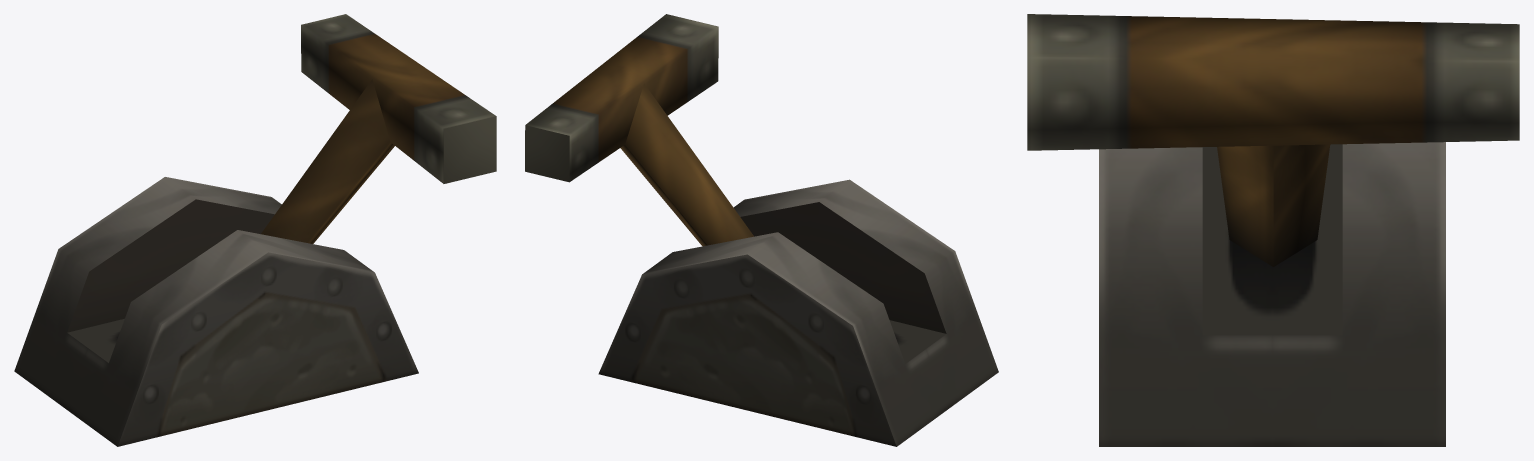
File: switch.FBX
3 views of the same model, side by side, from view 1: azimuth 30°, elevation 25°; view 2: azimuth 150°, elevation 25°; view 3: azimuth 270°, elevation 25° (orthographic). The views are drawn at different scales.
Visible parts, largest first — view 1: Object021, Cylinder001; view 2: Object021, Cylinder001; view 3: Object021, Cylinder001.
Part boxes in pixels (<box>): Object021: <box>14,177,418,446</box>; Cylinder001: <box>261,14,496,243</box>; Object021: <box>598,179,998,446</box>; Cylinder001: <box>525,14,753,246</box>; Object021: <box>1099,142,1445,446</box>; Cylinder001: <box>1027,14,1519,266</box>.
Size of the model in its own units: 12.46 by 8.63 by 8.84.
